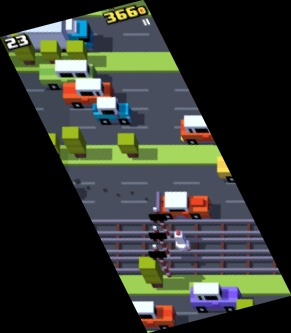car: (39, 60, 95, 89), (189, 283, 241, 313), (122, 301, 175, 330), (156, 191, 213, 217), (62, 79, 115, 106), (91, 97, 133, 126), (181, 115, 223, 144), (217, 155, 256, 183)
duck: (172, 230, 193, 255)
light off: (146, 245, 172, 277), (149, 208, 174, 240), (146, 225, 172, 255)
rail: (84, 216, 266, 238), (108, 255, 284, 276), (94, 237, 274, 256)
tree: (138, 257, 164, 291), (236, 298, 262, 330), (61, 126, 86, 157), (13, 36, 38, 66), (116, 132, 139, 159), (39, 41, 63, 66), (43, 133, 62, 161), (67, 40, 90, 63)
truck: (6, 17, 94, 52)
